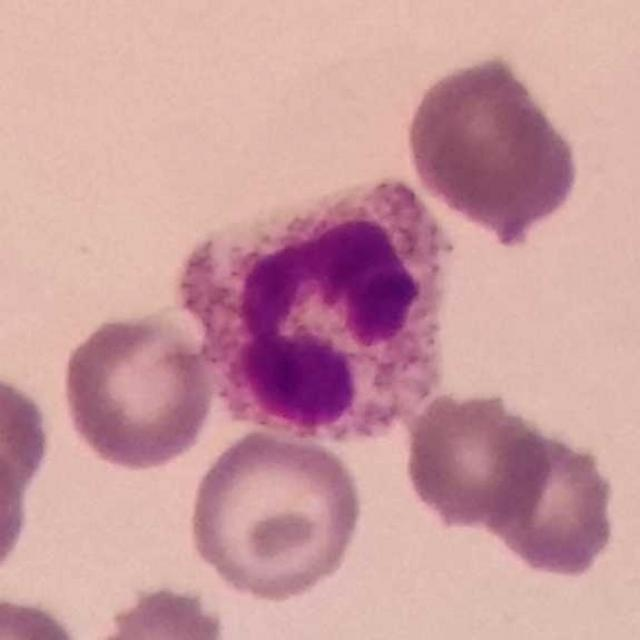Neutrophil: (166, 164, 452, 442)
RBC: (401, 50, 584, 241), (182, 426, 368, 604), (56, 306, 219, 474), (400, 385, 556, 532), (483, 424, 622, 581), (222, 322, 362, 438), (79, 580, 236, 640), (0, 366, 56, 510), (0, 437, 35, 590), (0, 590, 87, 640)
